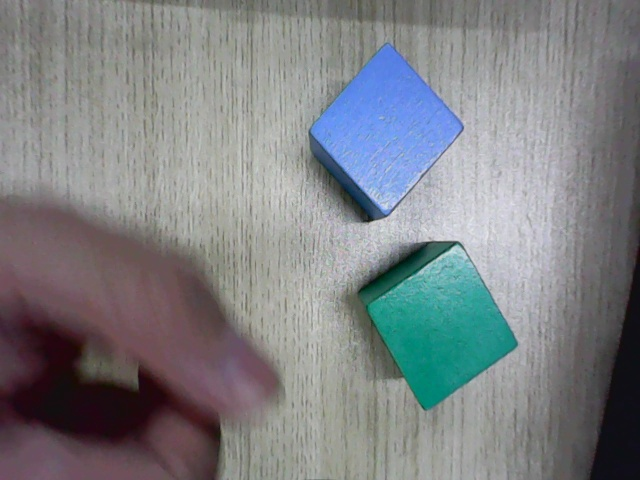upside of big cube: (308, 44, 466, 216), (365, 241, 519, 411)
